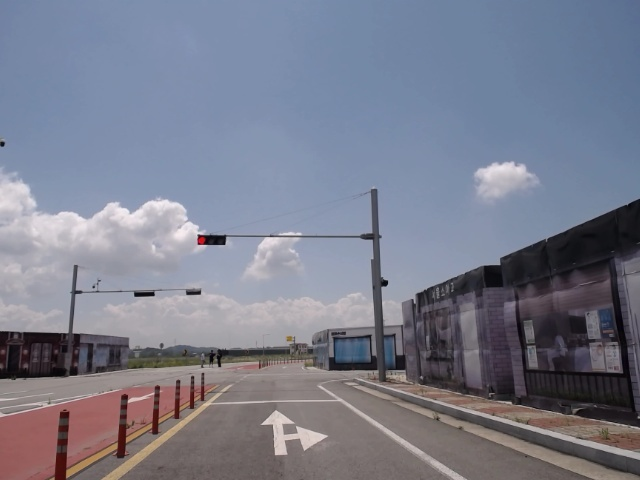red_3: (197, 235, 228, 247)
